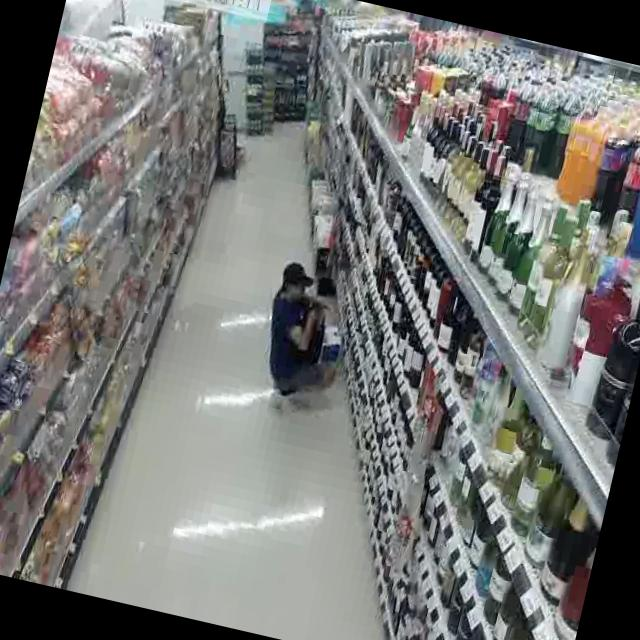shoplifting: (230, 243, 376, 446)
